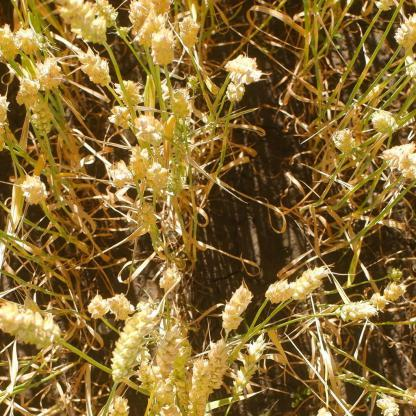whd: (110, 307, 158, 383), (0, 305, 61, 349), (233, 335, 267, 396), (58, 1, 106, 44), (221, 287, 252, 335), (156, 323, 182, 377), (78, 47, 111, 87), (207, 338, 230, 390), (292, 267, 328, 300), (224, 55, 262, 84), (135, 114, 165, 148), (335, 300, 376, 322), (151, 29, 175, 65), (171, 335, 195, 369), (264, 279, 295, 304), (134, 14, 158, 46), (395, 12, 415, 50), (191, 360, 213, 394), (108, 293, 134, 321), (92, 0, 118, 28), (178, 16, 200, 49), (21, 176, 46, 205), (108, 159, 132, 188), (130, 145, 148, 182), (381, 142, 416, 161), (128, 0, 150, 30), (153, 378, 178, 404), (372, 110, 399, 134), (114, 81, 141, 105), (16, 27, 40, 54), (0, 23, 17, 61), (88, 293, 111, 320), (146, 163, 168, 191), (109, 106, 134, 130), (172, 88, 192, 118), (135, 201, 158, 227), (176, 380, 192, 416), (18, 79, 38, 106), (30, 113, 53, 136), (334, 130, 356, 154), (158, 267, 179, 292), (188, 390, 208, 416), (107, 395, 130, 416), (384, 281, 406, 302), (168, 168, 184, 196), (376, 398, 400, 416), (38, 74, 61, 91), (226, 82, 245, 102), (146, 396, 165, 416), (35, 58, 60, 73), (22, 296, 41, 313), (397, 154, 416, 171), (170, 364, 188, 381), (137, 366, 156, 382), (135, 346, 151, 364), (0, 95, 10, 123), (151, 0, 172, 13), (34, 33, 52, 48), (136, 301, 160, 312), (370, 292, 384, 310), (403, 387, 416, 406), (161, 404, 181, 416), (374, 0, 395, 11), (32, 100, 51, 112), (150, 364, 164, 379), (388, 267, 402, 281), (138, 0, 154, 12), (116, 26, 130, 39), (156, 15, 169, 29), (406, 61, 416, 79), (404, 165, 416, 180), (176, 120, 190, 132), (138, 382, 154, 392), (187, 76, 198, 90), (316, 408, 335, 416), (0, 124, 5, 153), (408, 152, 416, 164)
